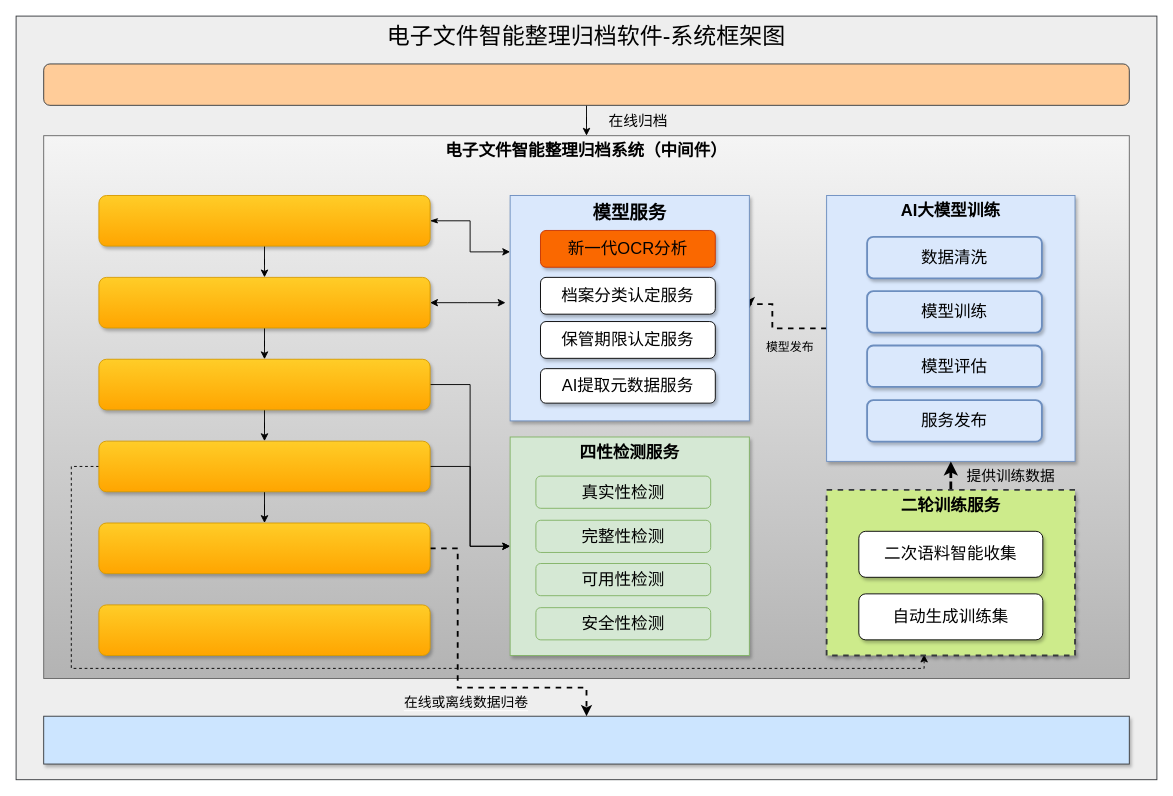
The diagram is 1173 pixels wide and 796 high, and some of its shapes have lost their labels. Here are the shapes that lost their labels. From the top down, the centre of each, then its label:
point (586, 84): 上游业务系统OA、一网通办、财务...
point (265, 222): 智能接收（捕获、录入、转换）
point (265, 303): 智能整理（组件、编号、封装）
point (265, 385): 数据移交（检测、登记、提交）
point (265, 467): 数据成果（接收检测、接收登记、确认接收）
point (265, 549): 归档（离线打包-符合归档要求数据包）
point (265, 631): 系统管理
point (587, 741): 各单位综合档案管理系统
